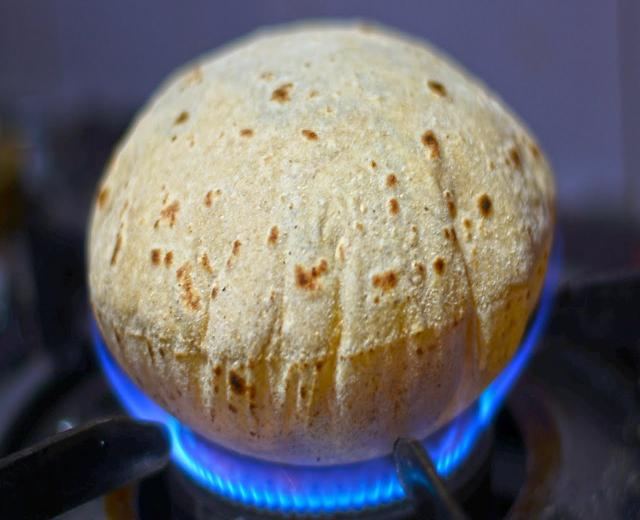chapati: (88, 24, 555, 464)
